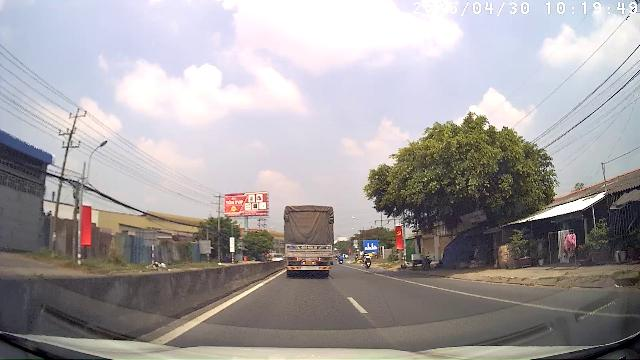420-bat-dau-khu-dong-dan-cu: (364, 240, 379, 252)
